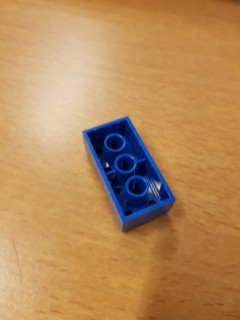2x4 blue: (79, 113, 179, 236)
